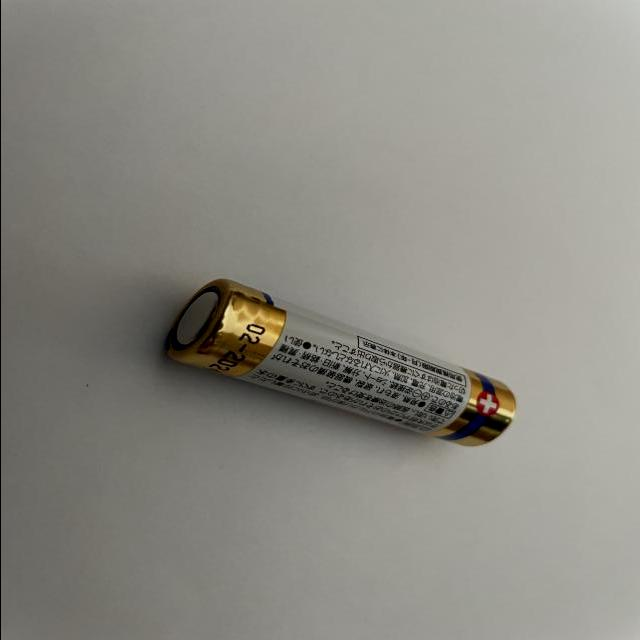AA: (160, 274, 515, 446)
